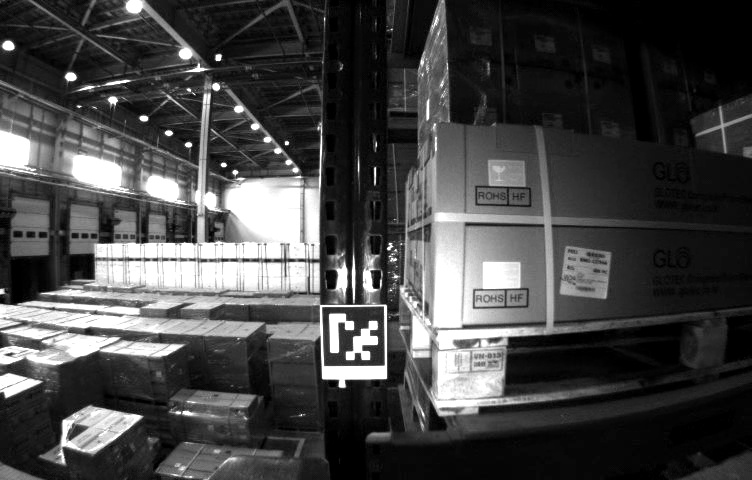True Barcode: (559, 247, 611, 304)
